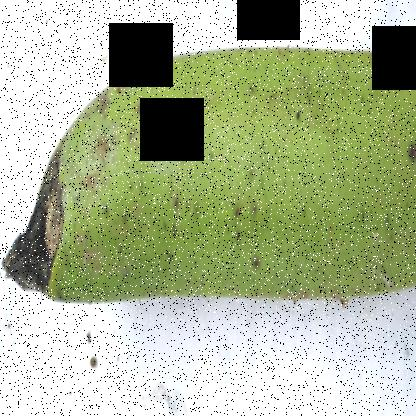unripe: (63, 23, 415, 321)
